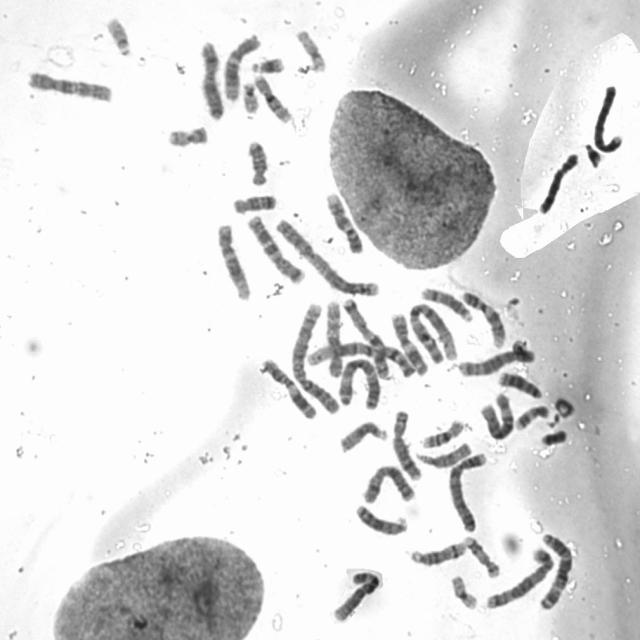A1: (298, 336, 421, 378), (404, 298, 459, 366)
A2: (270, 212, 381, 298), (285, 298, 342, 415)
A3: (534, 528, 575, 611), (334, 352, 382, 411)
B4: (443, 446, 490, 534), (588, 80, 625, 154)
B5: (482, 543, 556, 611), (454, 343, 536, 377)
C10: (21, 65, 114, 104), (321, 294, 344, 378)
C11: (258, 353, 318, 421), (386, 307, 429, 377)
C12: (213, 218, 253, 301), (220, 28, 262, 102)
C6: (327, 565, 383, 624), (476, 387, 516, 442)
C7: (338, 291, 395, 380), (242, 210, 306, 286)
C8: (535, 147, 581, 215), (388, 405, 423, 482)
C9: (457, 285, 507, 349), (321, 186, 365, 255)
D13: (350, 499, 409, 537), (494, 366, 544, 400)
D14: (417, 282, 475, 323), (406, 536, 468, 567)
D15: (334, 416, 389, 454), (412, 437, 473, 469)
E16: (250, 69, 294, 124), (416, 414, 466, 449)
E17: (460, 530, 502, 579), (511, 400, 552, 432)
E18: (242, 134, 270, 188), (228, 188, 278, 214)
F19: (291, 23, 329, 73), (446, 570, 479, 611)
F20: (162, 120, 210, 148), (509, 336, 534, 365)
G21: (246, 51, 287, 75), (580, 138, 604, 168)
G22: (101, 10, 134, 58), (237, 76, 260, 114)
X: (357, 460, 417, 505), (195, 35, 226, 121)
Y: (536, 424, 570, 448)
